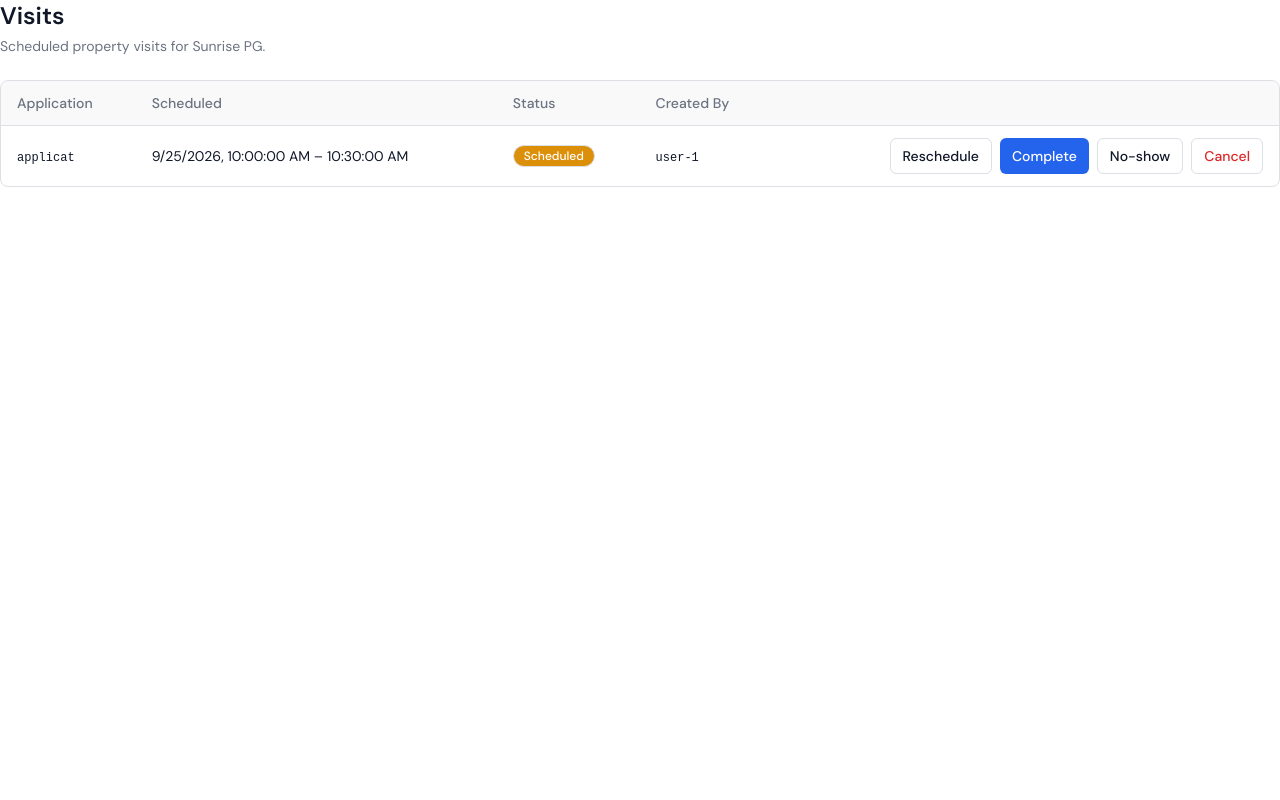
Scenario: VisitsListPage › cancels a visit after confirming and updates the row status
The width and height of the screenshot is (1280, 800).
Click the button "Cancel": [1227, 156] box x1=1191 y1=138 x2=1263 y2=174
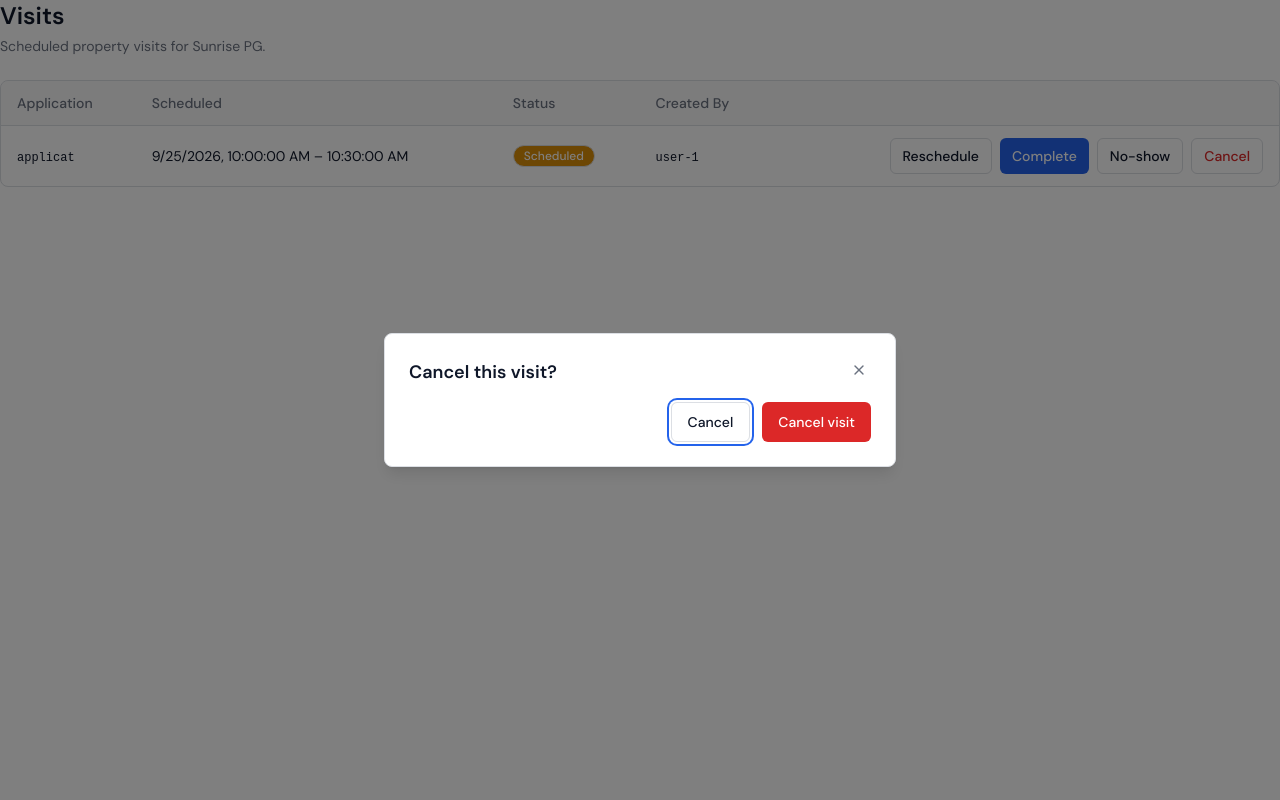
Click the button "Cancel visit": [817, 422] box x1=762 y1=402 x2=871 y2=442
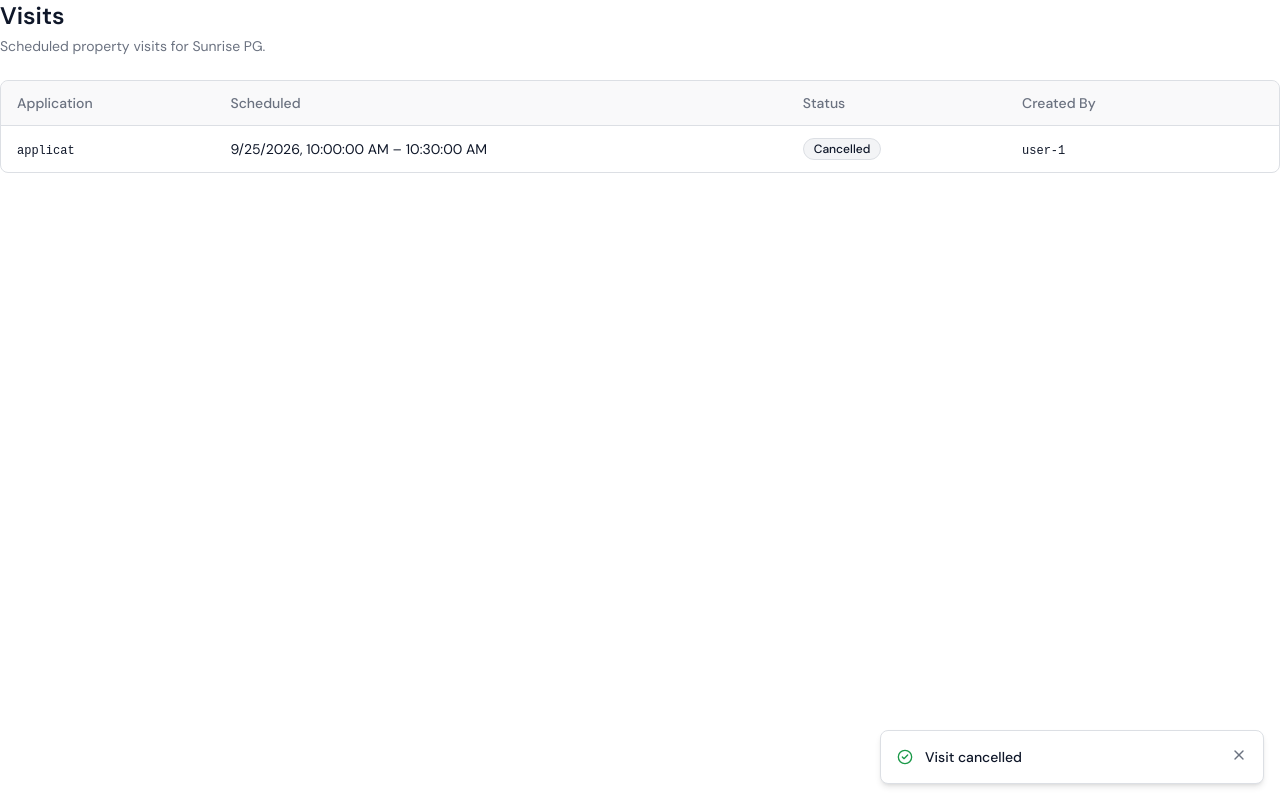
Expected: the text "Visit cancelled" is shown, x1=925 y1=748 x2=1022 y2=766
Expected: the text "Cancelled" is shown, x1=803 y1=138 x2=881 y2=160
